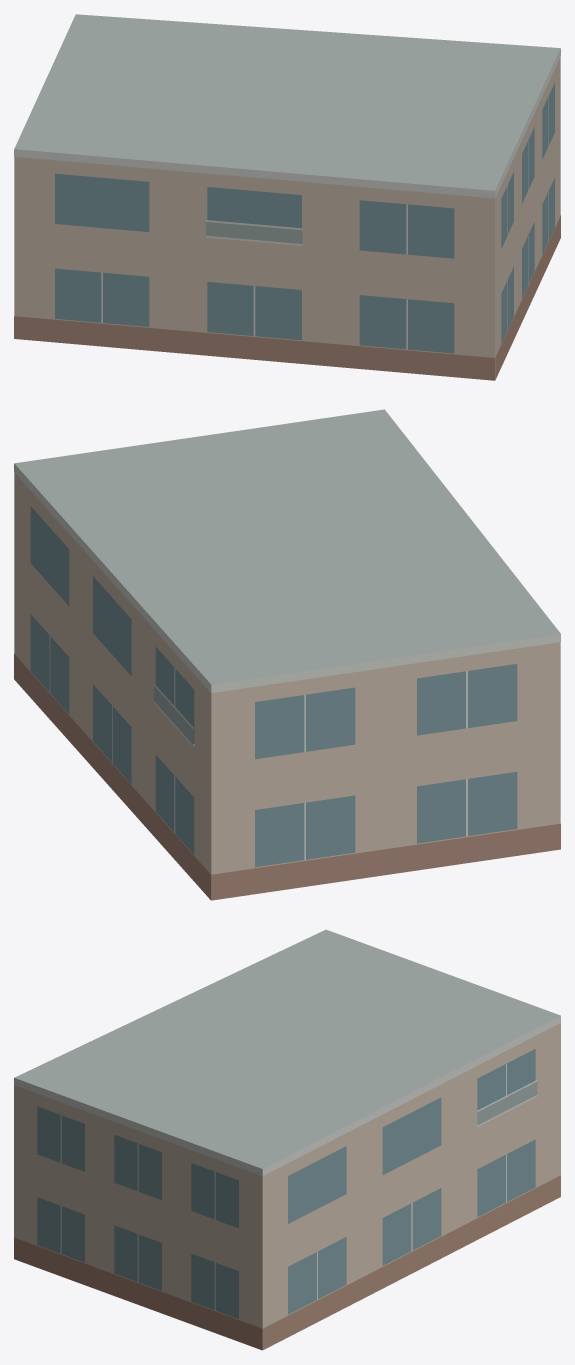
The model's file is survey-upis-32892325.glb.
3 renders of one model, top to bottom at view 1: azimuth 30°, elevation 25°; view 2: azimuth 150°, elevation 25°; view 3: azimuth 270°, elevation 25°, orthographic. The views are drawn at different scales.
Visible parts, largest first — view 1: survey-upis-32892325.tmp; view 2: survey-upis-32892325.tmp; view 3: survey-upis-32892325.tmp.
Part boxes in pixels (<box>): survey-upis-32892325.tmp: <box>14,14,560,380</box>; survey-upis-32892325.tmp: <box>14,409,560,900</box>; survey-upis-32892325.tmp: <box>14,929,560,1350</box>.
Size of the model in its own units: 17.28 by 6.1 by 16.67.
